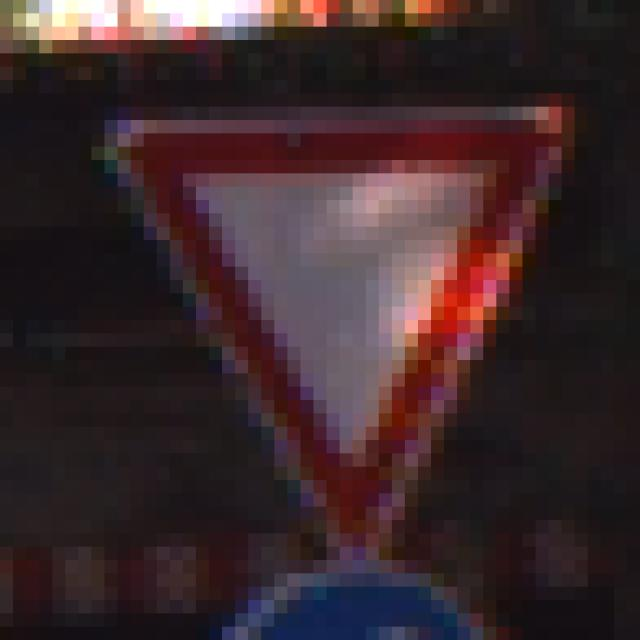Give Way: (79, 81, 576, 574)
